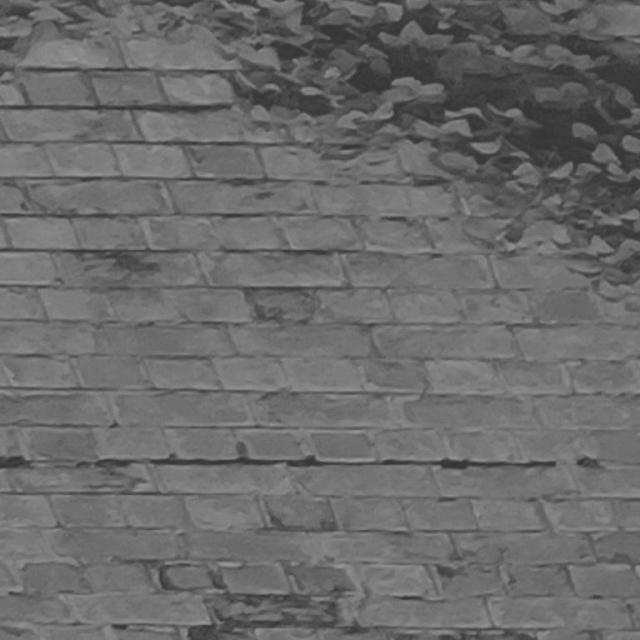crack: (1, 452, 601, 470)
